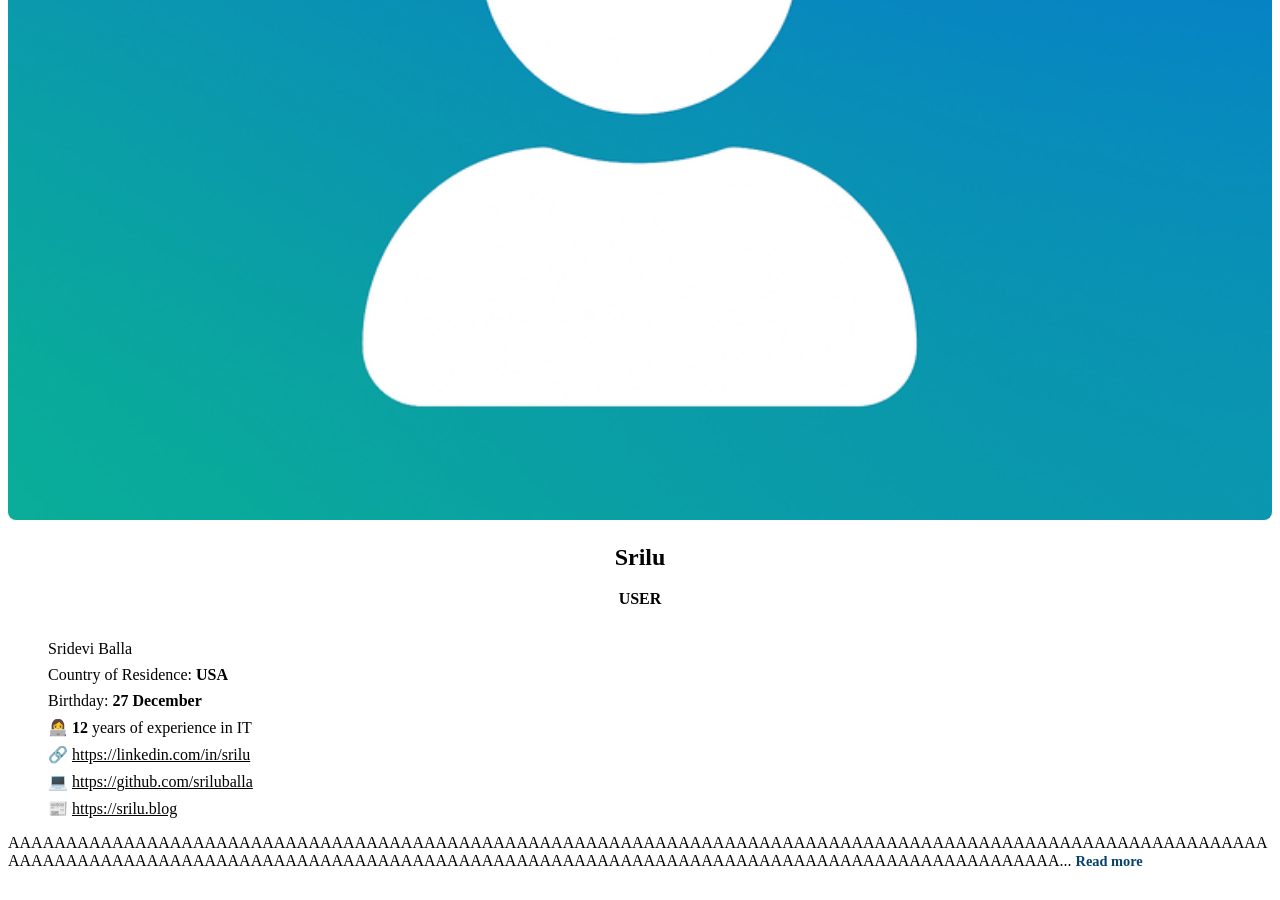
it: SavedProfileCard › renders self-intro and toggle button if intro is long
(page scrolled)
Click the button "Read more". click: {"x": 1109, "y": 862}
box: [1076,854,1143,870]
(page scrolled)
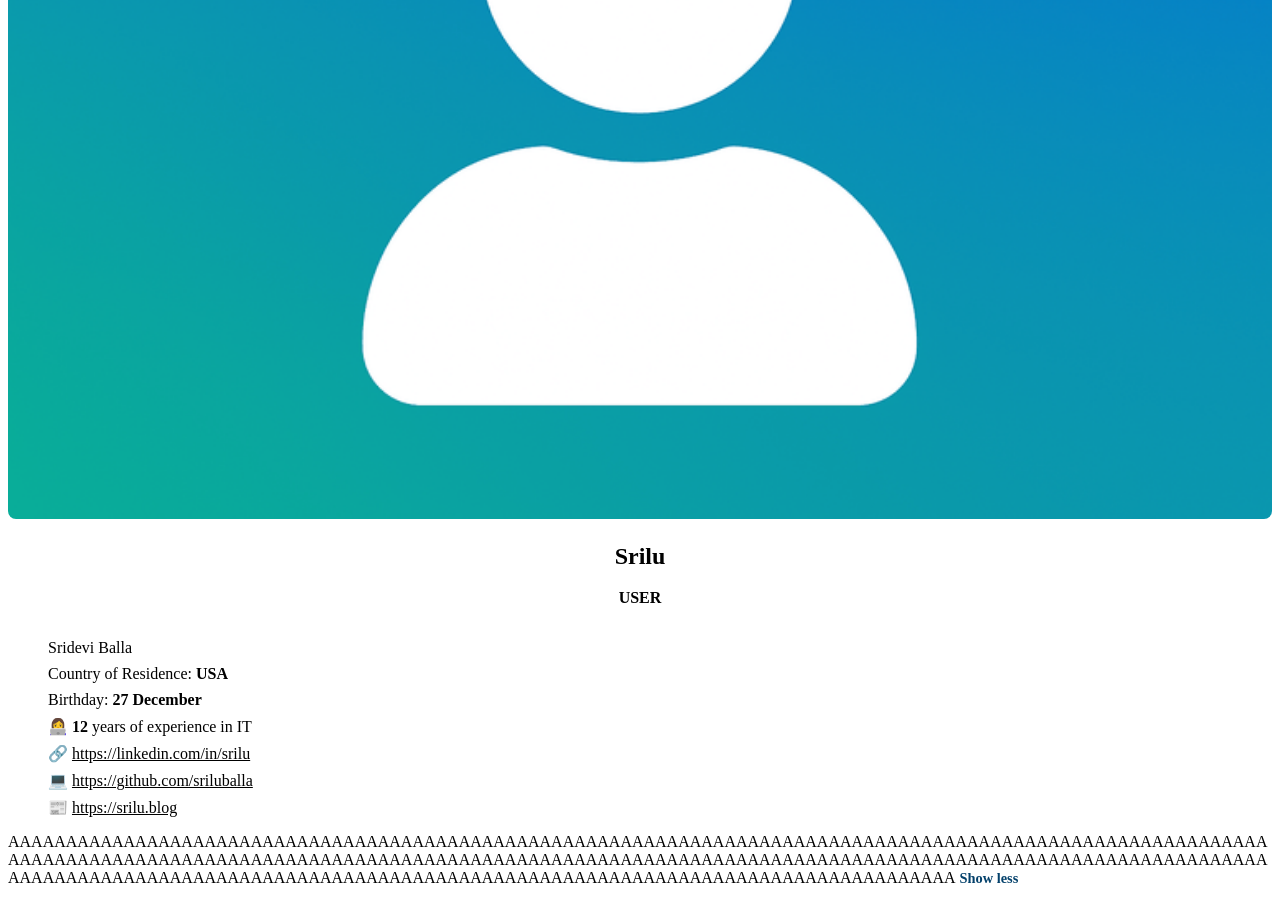
Now the button "Show less" is shown, box [960,870,1018,888]
